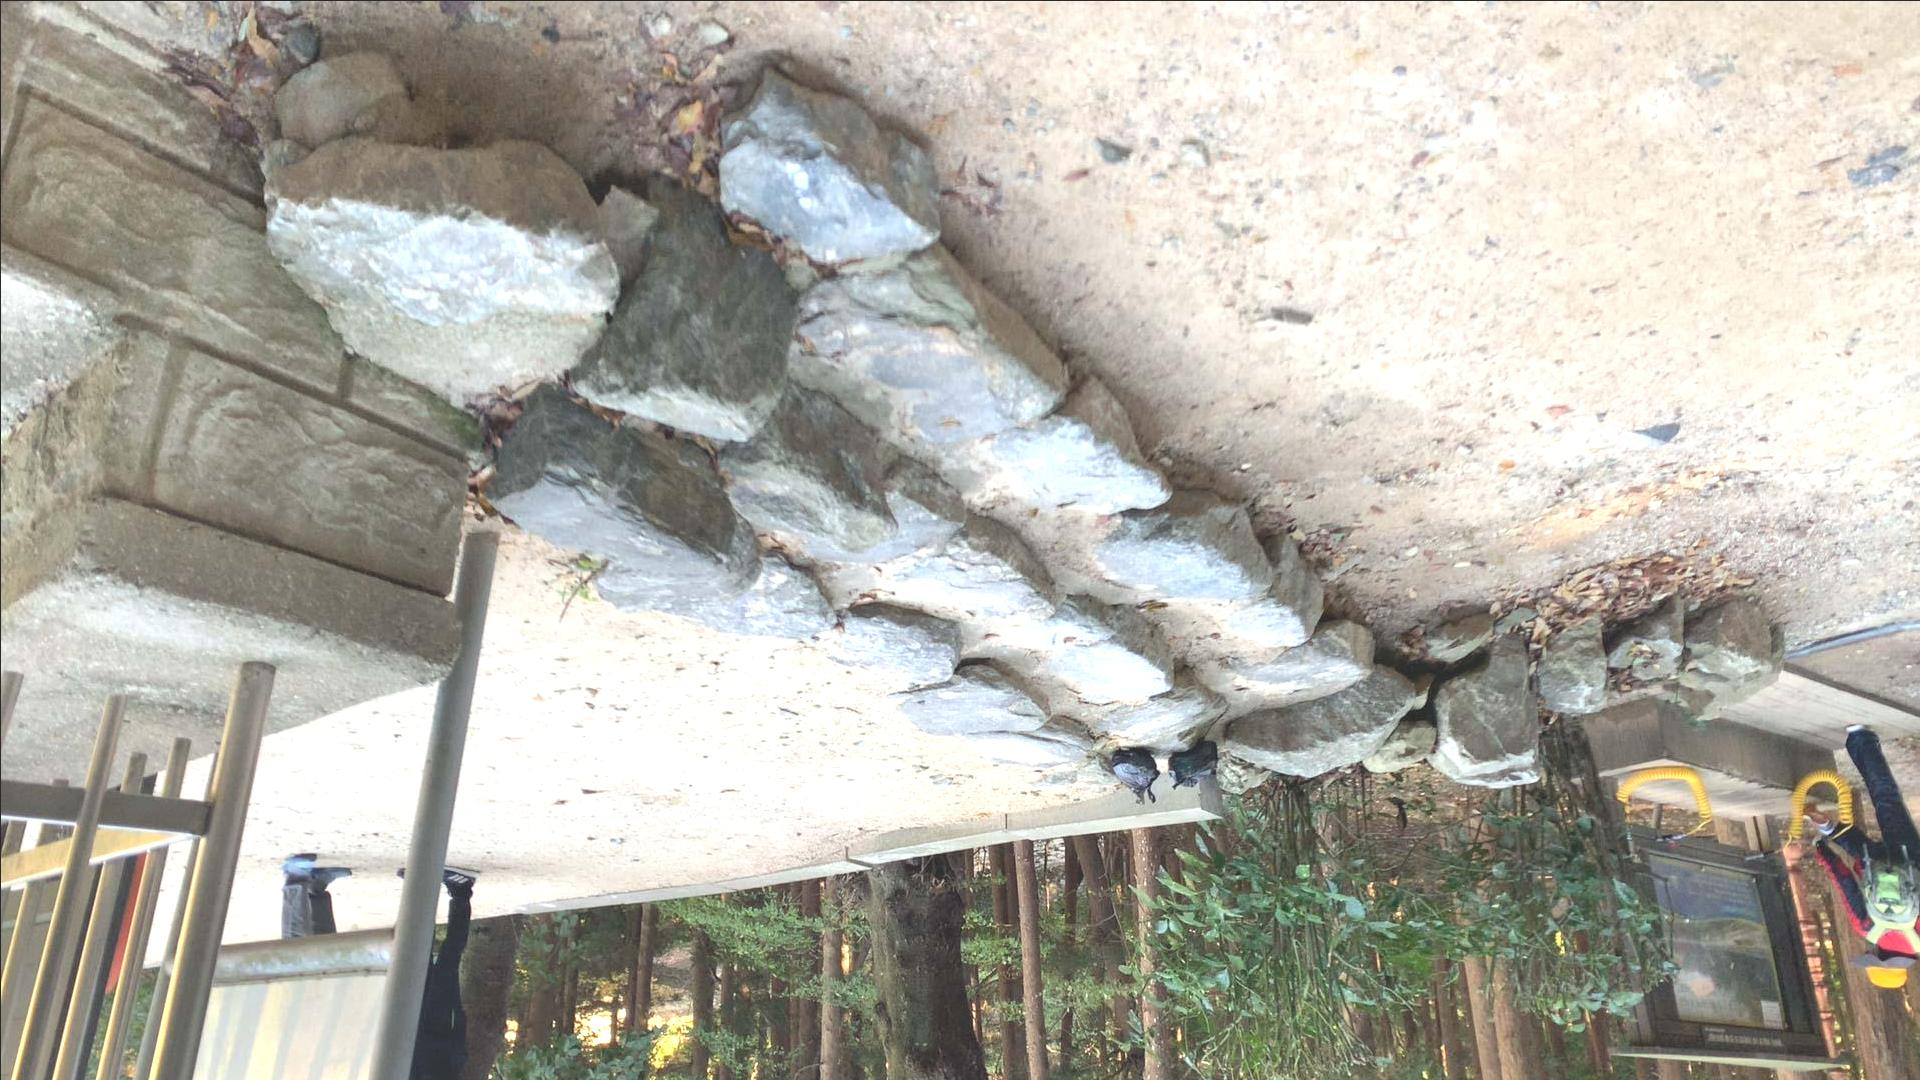black_bag: (1106, 746, 1160, 807), (1164, 740, 1221, 796)
